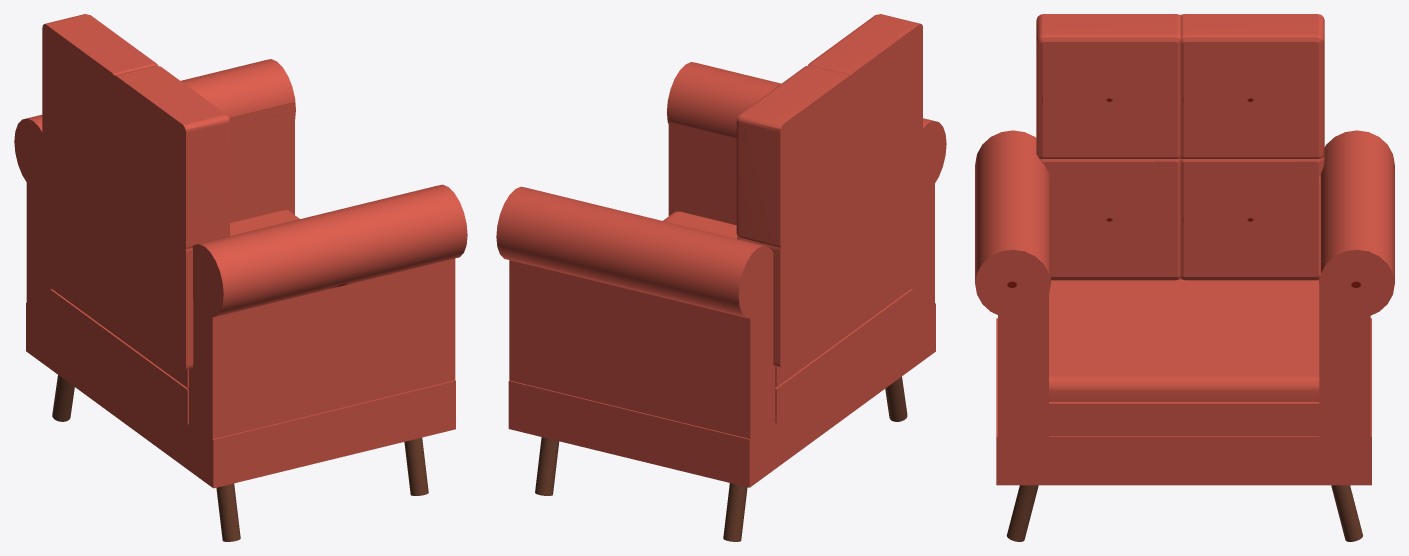
Rendered from sillon.obj.
3 views of the same model, side by side, from view 1: azimuth 30°, elevation 25°; view 2: azimuth 150°, elevation 25°; view 3: azimuth 270°, elevation 25° (orthographic).
Parts seen in each view (by area): view 1: pCube6, pCylinder8, pCube2, polySurface1, polySurface3, polySurface4, pCube5, polySurface5, pCylinder2, pCube3, pCube10, pCylinder5 (+2 smaller); view 2: pCube5, pCylinder2, pCube2, polySurface3, polySurface1, polySurface5, polySurface4, pCube6, pCylinder8, pCube3, pCube10, pCylinder7 (+2 smaller); view 3: pCube10, polySurface3, polySurface1, pCube2, polySurface5, polySurface4, pCylinder2, pCylinder8, pCube3, pCube5, pCube6, pCylinder6 (+1 smaller).
Boxes of the visible parts, bbox=[...] form: pCube6: bbox=[187, 258, 455, 445]; pCylinder8: bbox=[192, 184, 467, 317]; pCube2: bbox=[26, 302, 455, 488]; polySurface1: bbox=[112, 65, 229, 250]; polySurface3: bbox=[42, 14, 158, 197]; polySurface4: bbox=[112, 195, 193, 370]; pCube5: bbox=[26, 101, 294, 328]; polySurface5: bbox=[42, 145, 115, 318]; pCylinder2: bbox=[14, 59, 295, 191]; pCube3: bbox=[50, 289, 188, 424]; pCube10: bbox=[50, 210, 299, 388]; pCylinder5: bbox=[216, 483, 240, 541]; pCube5: bbox=[509, 260, 775, 439]; pCylinder2: bbox=[496, 186, 773, 318]; pCube2: bbox=[508, 303, 935, 487]; polySurface3: bbox=[736, 65, 853, 248]; polySurface1: bbox=[808, 14, 922, 197]; polySurface5: bbox=[737, 194, 853, 367]; polySurface4: bbox=[850, 144, 922, 316]; pCube6: bbox=[668, 121, 934, 329]; pCylinder8: bbox=[667, 62, 946, 193]; pCube3: bbox=[775, 289, 913, 423]; pCube10: bbox=[663, 211, 913, 387]; pCylinder7: bbox=[723, 483, 747, 541]; pCube10: bbox=[1049, 279, 1319, 401]; polySurface3: bbox=[1180, 14, 1324, 158]; polySurface1: bbox=[1036, 14, 1180, 158]; pCube2: bbox=[996, 318, 1371, 485]; polySurface5: bbox=[1180, 155, 1324, 280]; polySurface4: bbox=[1039, 158, 1180, 280]; pCylinder2: bbox=[1319, 130, 1394, 318]; pCylinder8: bbox=[975, 130, 1050, 318]; pCube3: bbox=[1049, 402, 1319, 436]; pCube5: bbox=[1319, 175, 1370, 443]; pCube6: bbox=[998, 295, 1048, 443]; pCylinder6: bbox=[1331, 485, 1362, 541].
Bounding box in the file's own units: 2.52 × 3.99 × 3.65.
Materials: 2 (2 with a texture image).
